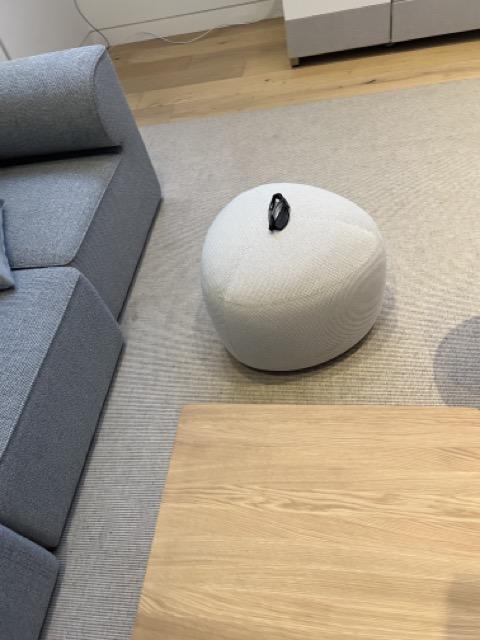Sunglasses: (269, 192, 292, 233)
